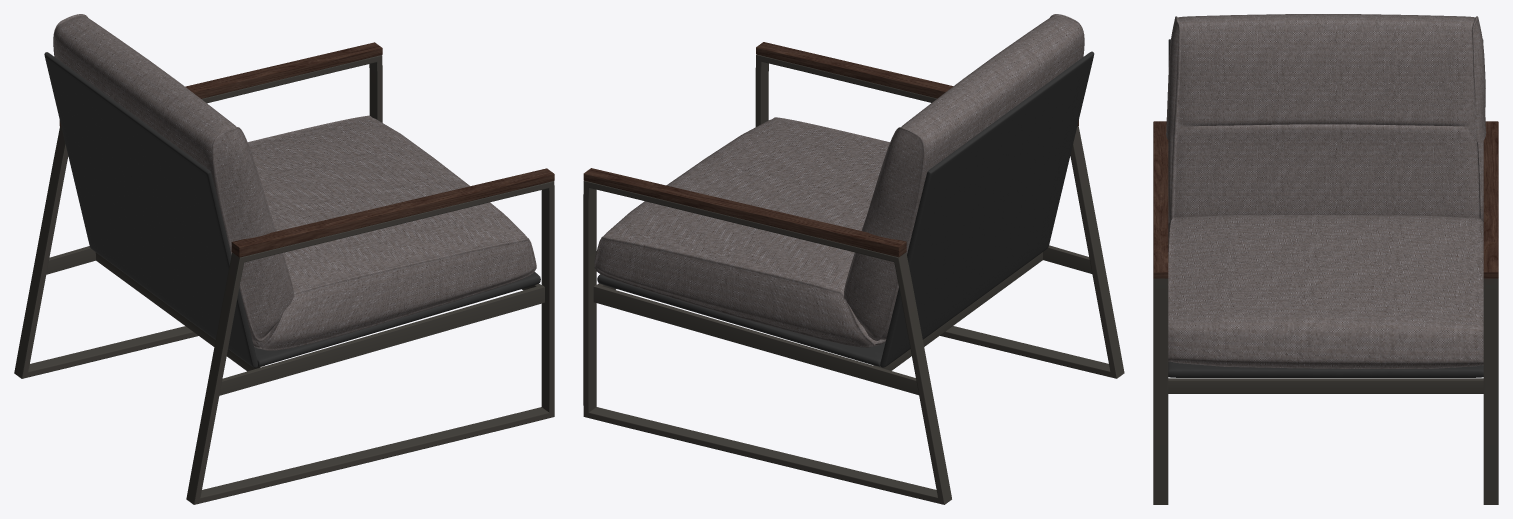
Rendered from daytona.gltf.
The picture shows the model from 3 angles, left to right: view 1: azimuth 30°, elevation 25°; view 2: azimuth 150°, elevation 25°; view 3: azimuth 270°, elevation 25°; orthographic projection. The views are drawn at different scales.
Parts seen in each view (by area): view 1: daytona; view 2: daytona; view 3: daytona.
Part boxes in pixels (box(x1,y1,x2,y2)): daytona: box(14, 14, 554, 504); daytona: box(583, 14, 1124, 504); daytona: box(1153, 14, 1498, 504).
Size of the model in its own units: 0.8052 by 0.7573 by 0.6904.
1 material, 1 textured.
